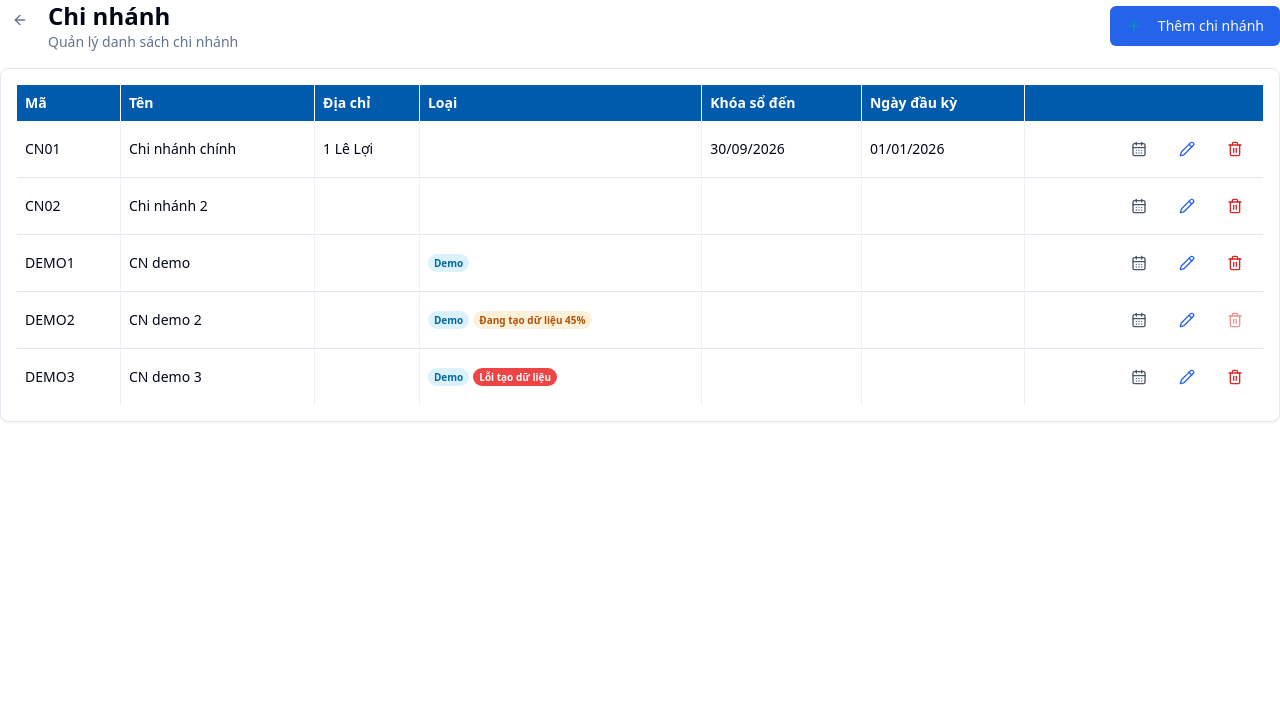
it: BranchesPage › sets the opening date
Check: the column heading "Ngày đầu kỳ" is shown, box [861,85,1024,121]
Check: the text "01/01/2026" is shown, box [861,121,1024,178]
Click the button named "Đặt ngày đầu kỳ" in the row of "CN02": (1139, 206) [1119,186,1159,226]
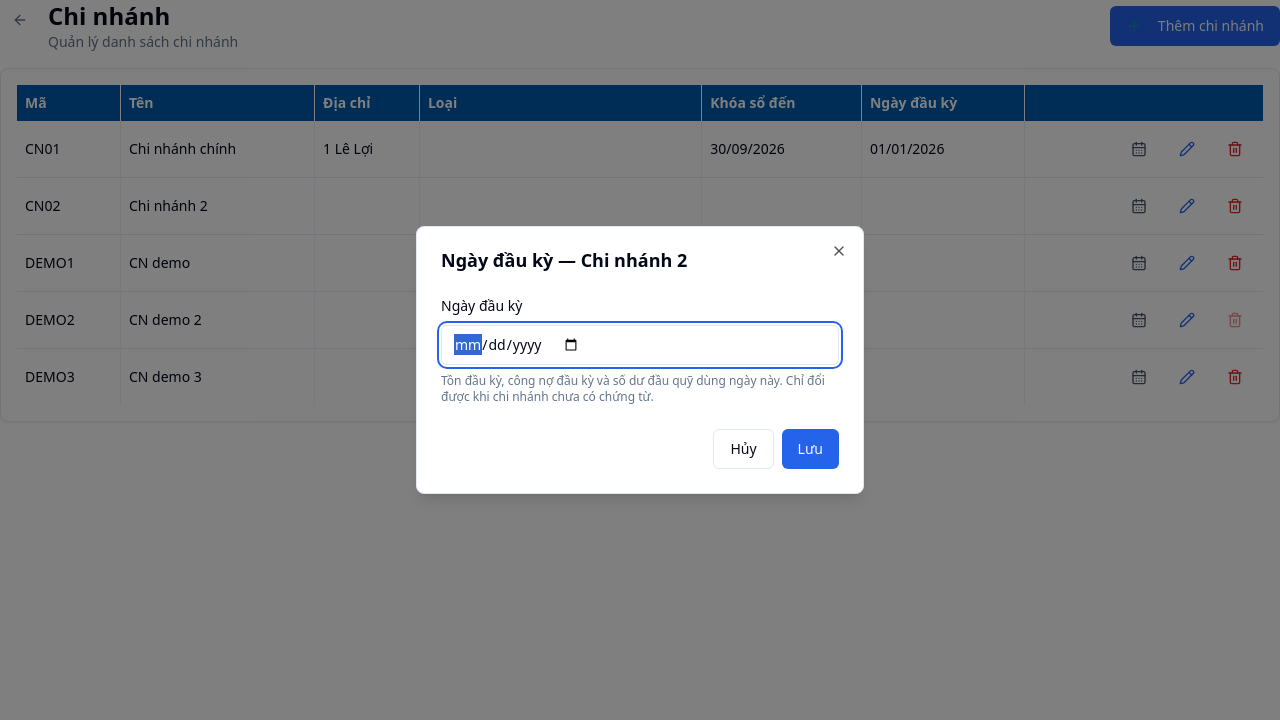
Check: the date field labelled "Ngày đầu kỳ" is empty
In the date field labelled "Ngày đầu kỳ": (640, 345) [441,325,839,365], type "2026-10-01"
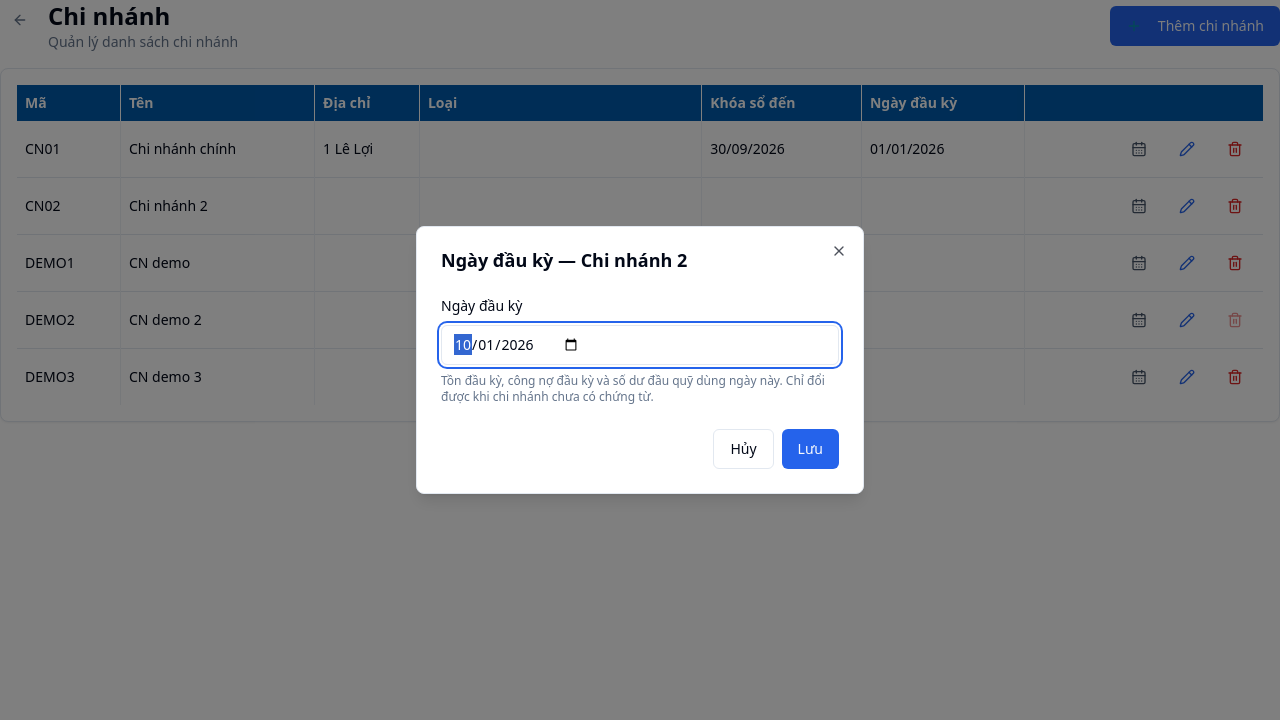
Click the button "Lưu": (810, 449) [782,429,839,469]
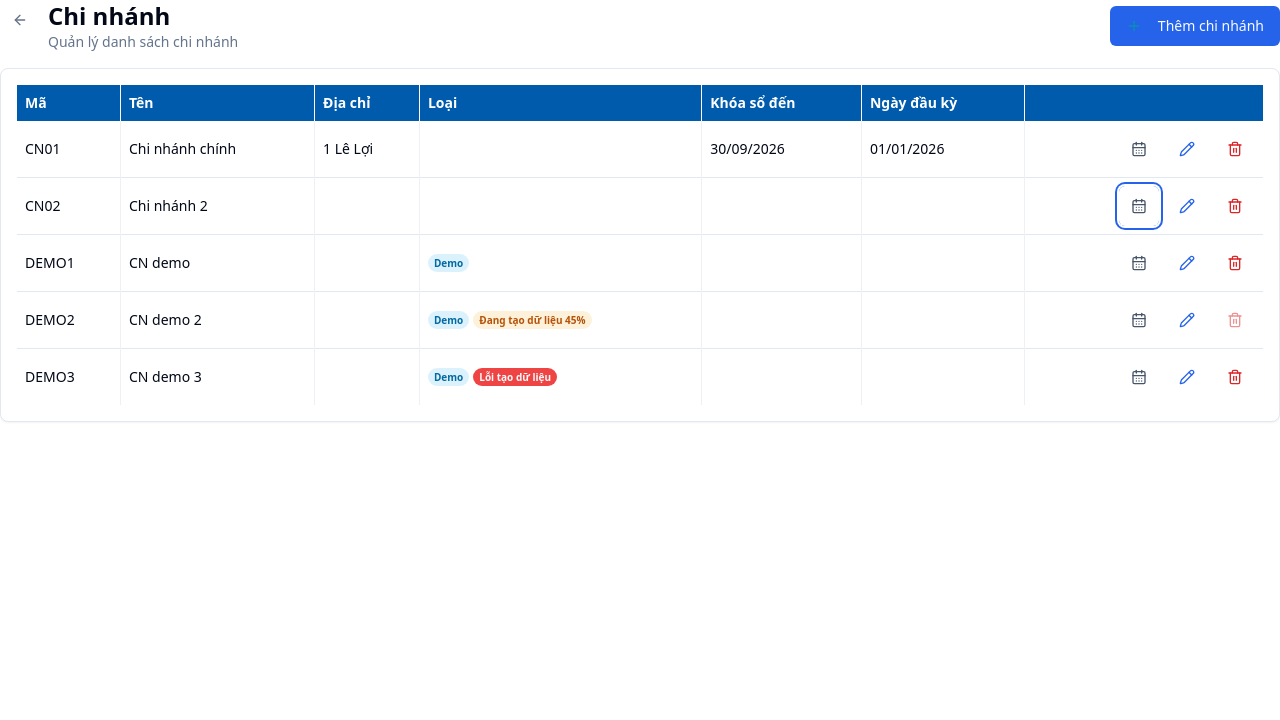
Check: the dialog is gone
